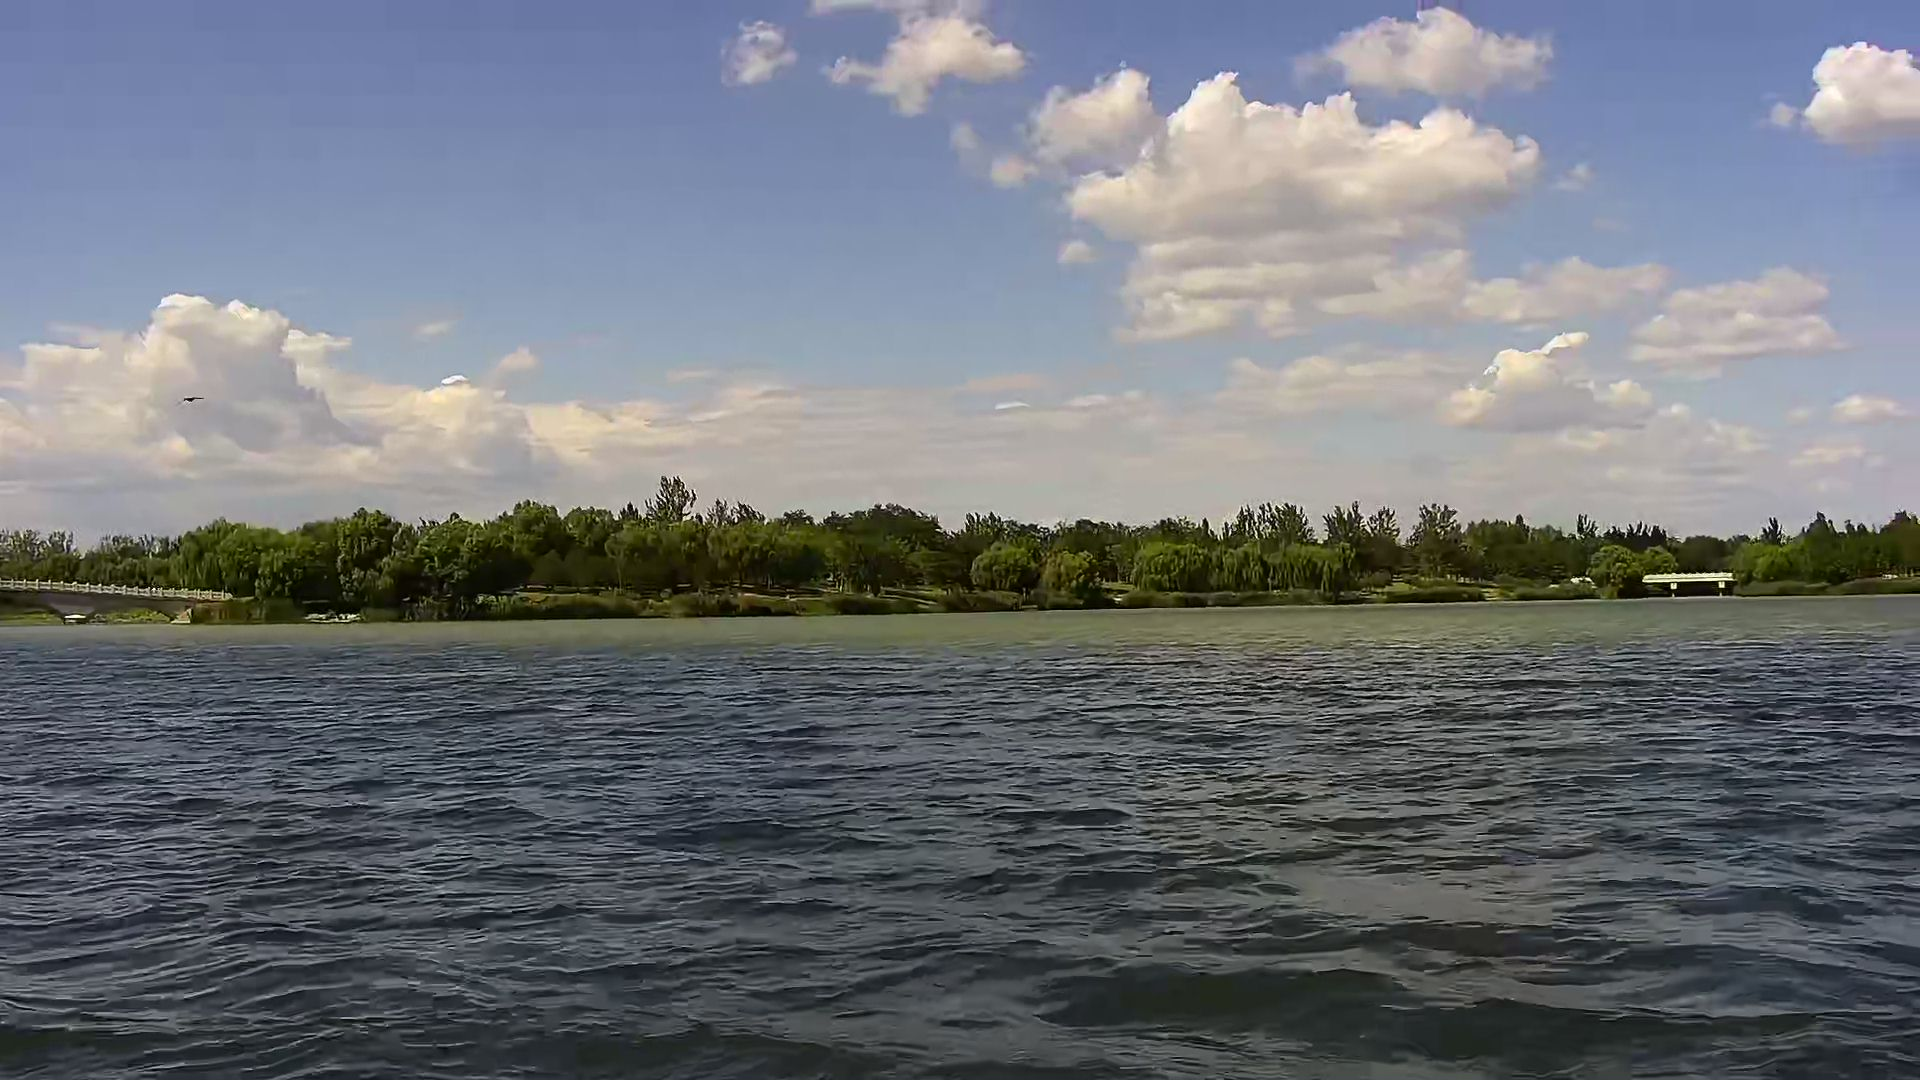bridge: (1, 583, 252, 629), (1640, 570, 1739, 599)
